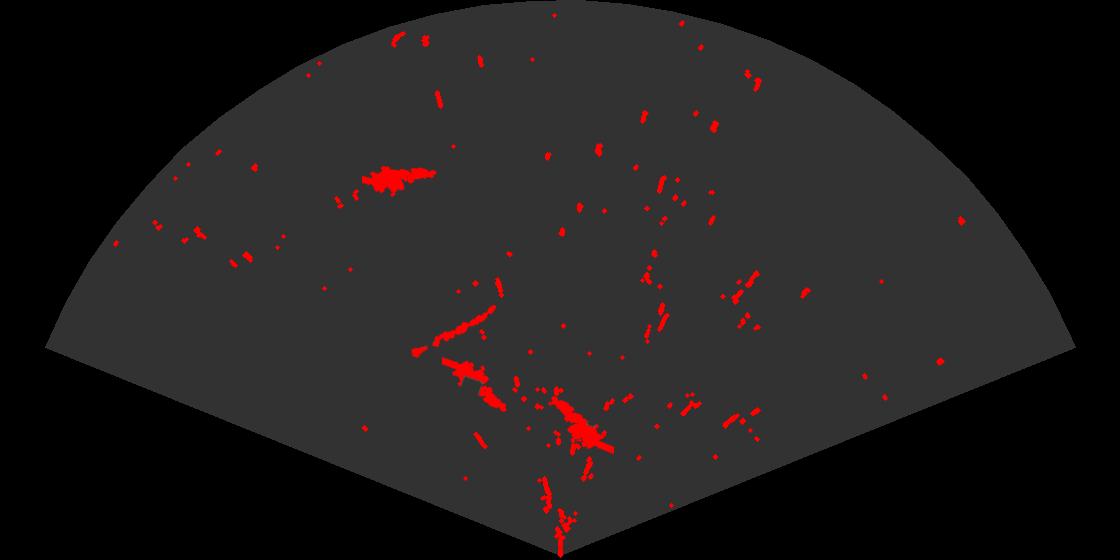chain: (409, 303, 498, 359)
frogman: (550, 394, 614, 456), (442, 356, 508, 414), (362, 164, 438, 199)
